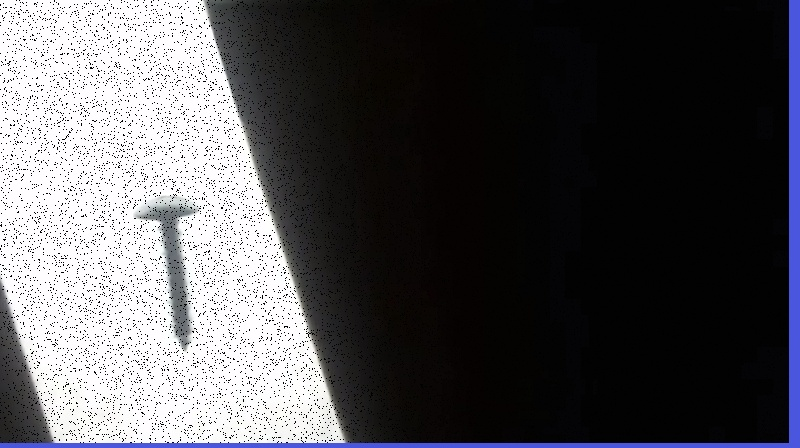S003: (129, 191, 203, 351)
